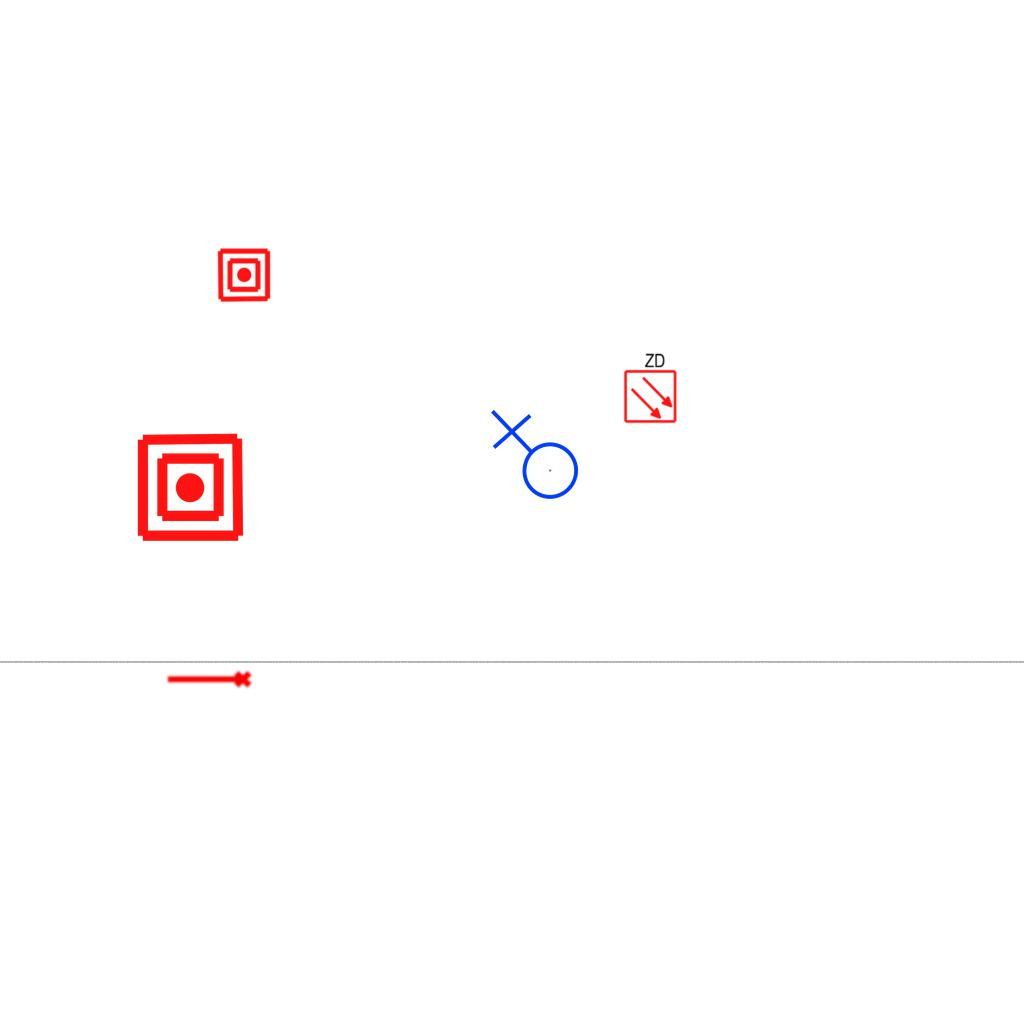ASR_Ansaugoeffnung: (165, 669, 253, 692)
Elektroanschluss_allgemein_230V_Geraeteanschlussdose_230V: (486, 409, 580, 508)
NAM-Nichtautomatischer_Melder: (134, 431, 247, 544), (216, 247, 272, 303)
ZD_Melder_in_Zwischendecke_mit_Revisionsoeffnung_mind_40_x_40_cm: (621, 350, 678, 424)
